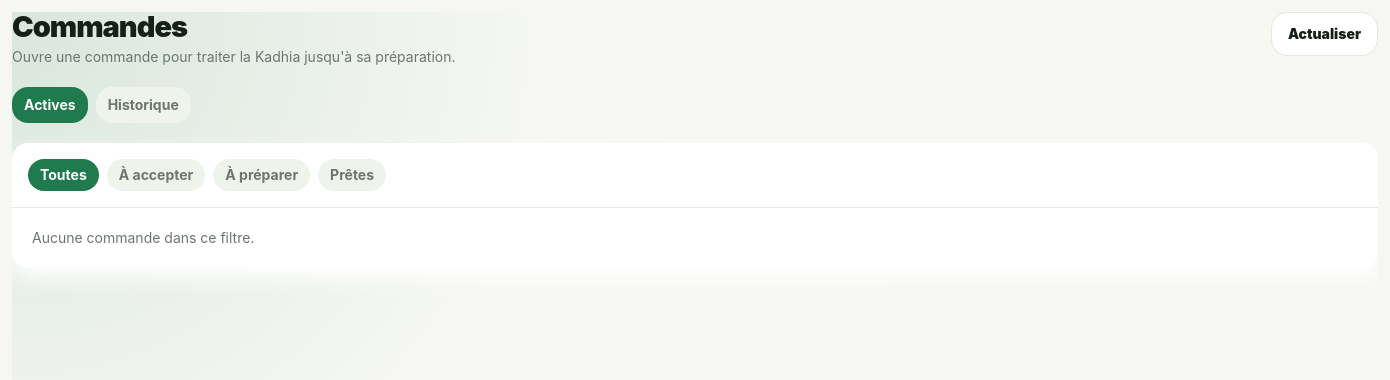
Test: MerchantOrdersPage › renders an empty history state
Click the tab "Historique": (143, 105) [96,87,191,123]
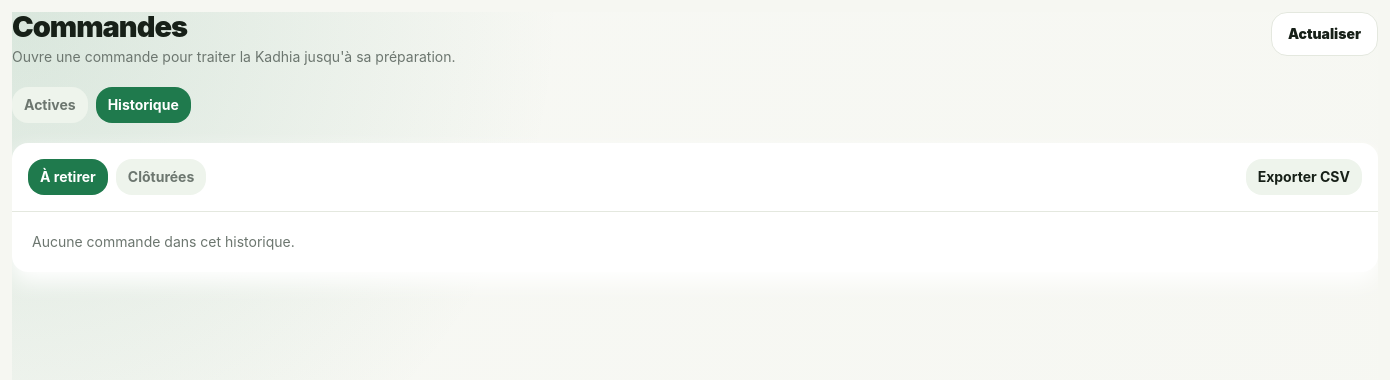
expect the text "Aucune commande dans cet historique." is shown: met, box [32,233,295,250]
